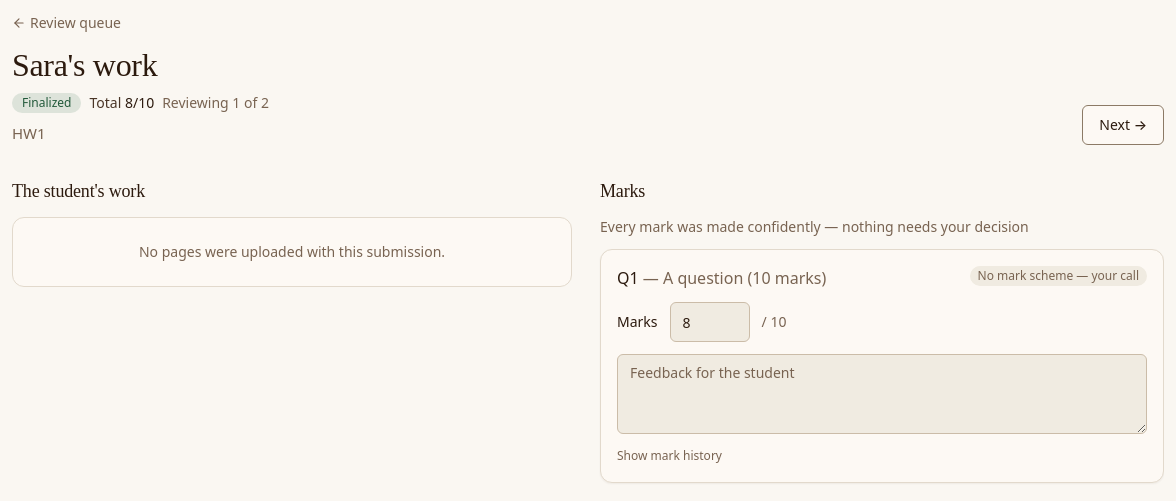
Test: an already-finalized item still lets the tutor move on
Click the button "Next →": (1123, 125) [1082,105,1164,145]
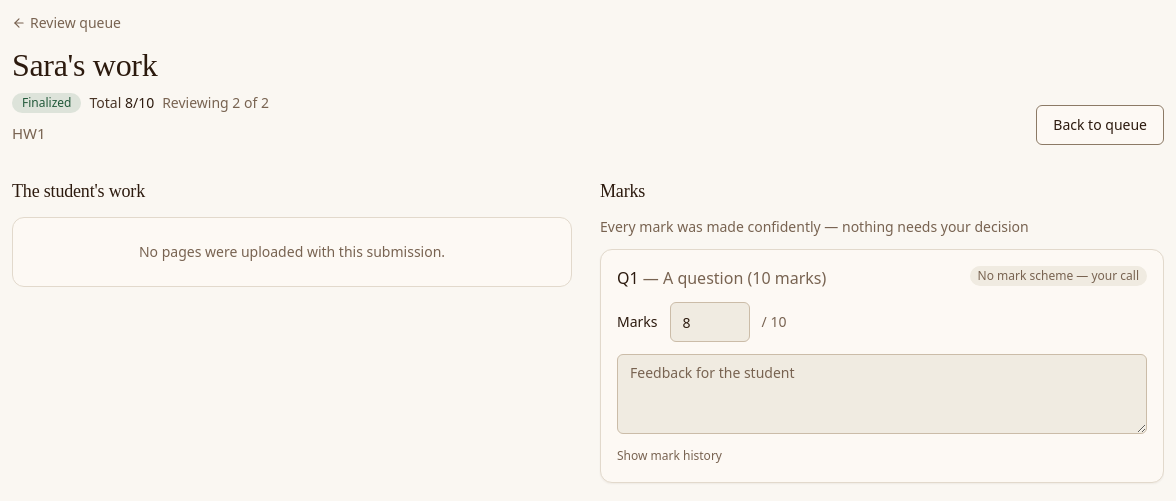
Check: the text "Reviewing 2 of 2" is shown, box [162,93,269,113]
